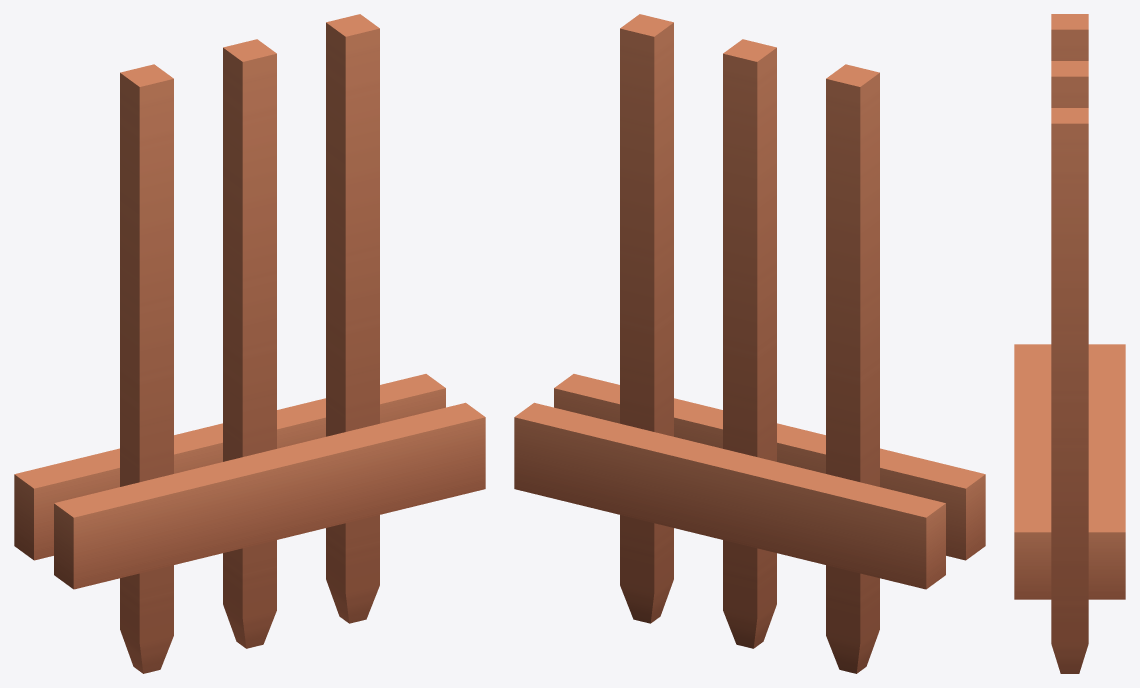
The model's file is GateWall.glb.
The picture shows the model from 3 angles, left to right: view 1: azimuth 30°, elevation 25°; view 2: azimuth 150°, elevation 25°; view 3: azimuth 270°, elevation 25°; orthographic projection. The views are drawn at different scales.
Visible parts, largest first — view 1: gate; view 2: gate; view 3: gate.
Boxes of the visible parts, x1,y1,x2,y2 form: gate: [14, 14, 485, 673]; gate: [514, 14, 985, 673]; gate: [1014, 14, 1125, 673].
Size of the model in its own units: 0.6 by 0.8248 by 0.15.
Materials: 1 (1 with a texture image).
